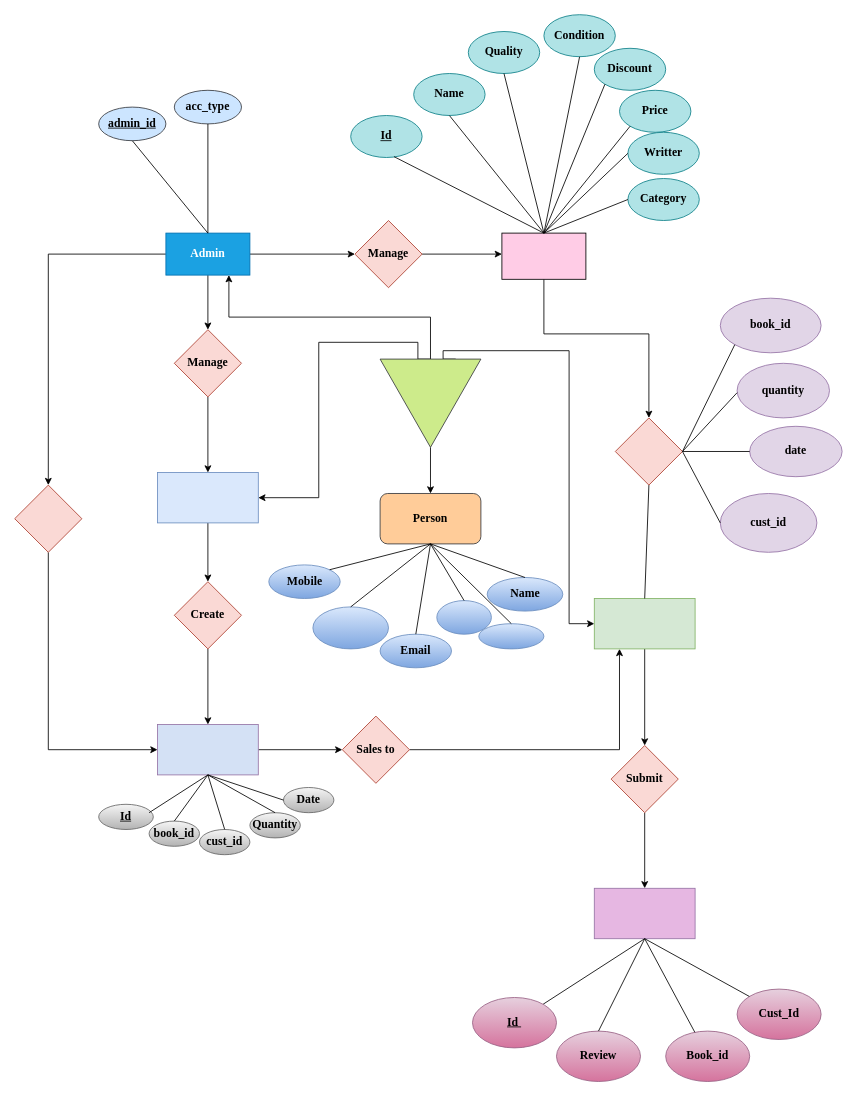
The diagram is 857 pixels wide and 1096 high, and some of its shapes have lost their labels. Here are the shapes that lost their labels. From the top down, the centre of each, then its label:
At (543,255): "Book List".
At (430,402): "IS A".
At (648,451): "Order".
At (207,497): "Sellers".
At (48,518): "Checks".
At (350,627): "Gender".
At (463,617): "Address".
At (511,636): "Password".
At (644,623): "Customers".
At (207,749): "Reports".
At (644,913): "Reviews".
